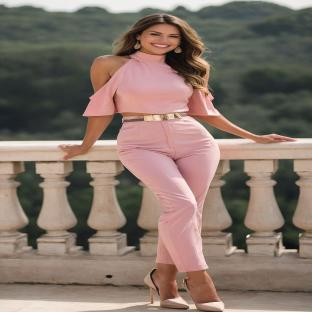Human: (59, 14, 291, 312)
